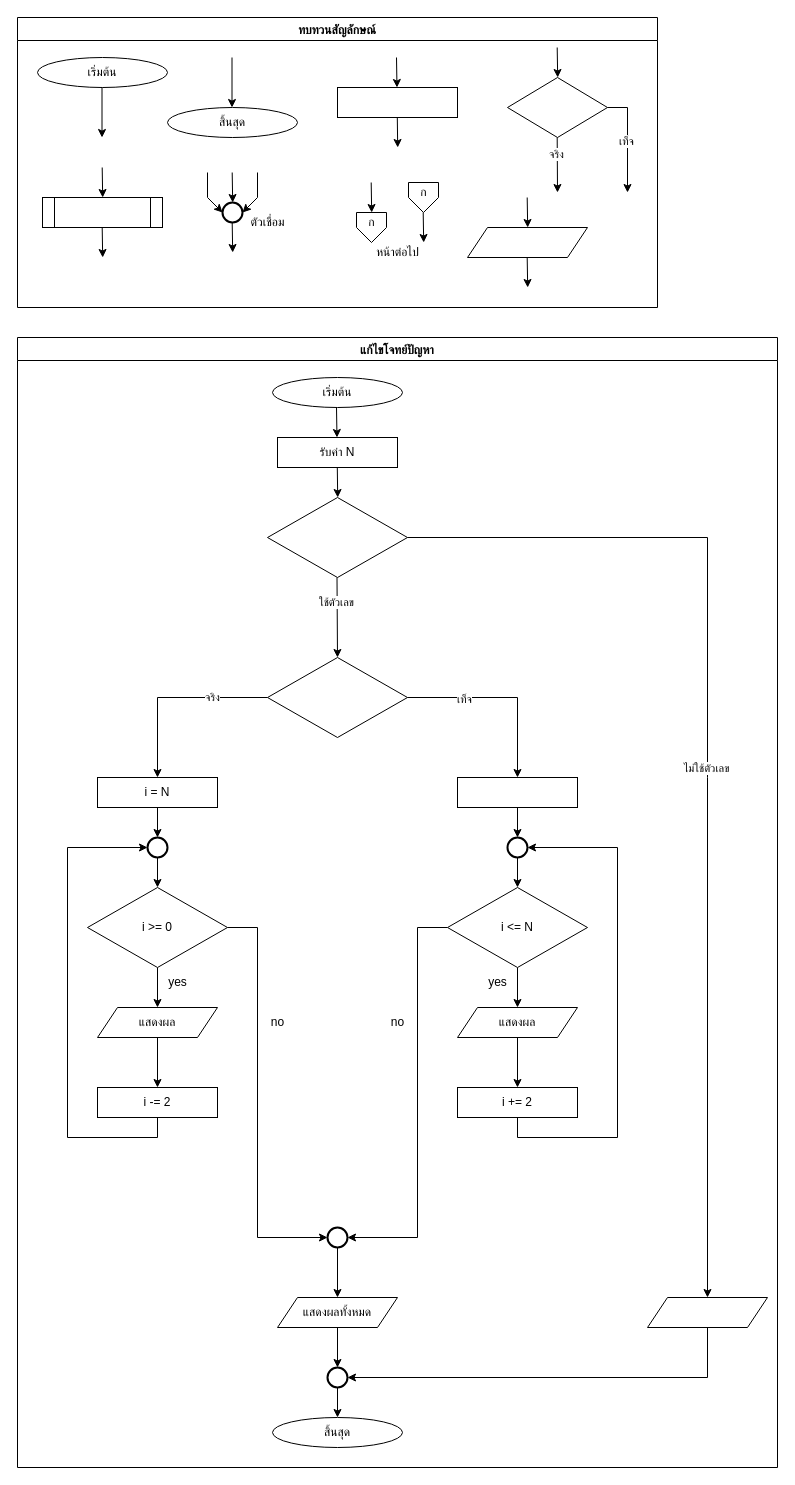
Some shapes in this 795 by 1485 pixel diagram are drawn without their labels. The box of each missing label's shape, as (x1, y1, x2, y2) in pixels:
i = 1: (456, 776, 578, 808)
N%2==0: (266, 656, 408, 738)
Please press the number: (646, 1296, 768, 1328)
กระบวนการ: (336, 86, 458, 118)
ตรวจสอบค่า N: (266, 496, 408, 578)
ประโยคเงื่อนไข: (506, 76, 608, 138)
ฟังก์ชัน/โมดูล: (42, 196, 162, 228)
แสดงผล/รับค่า: (466, 226, 588, 258)
